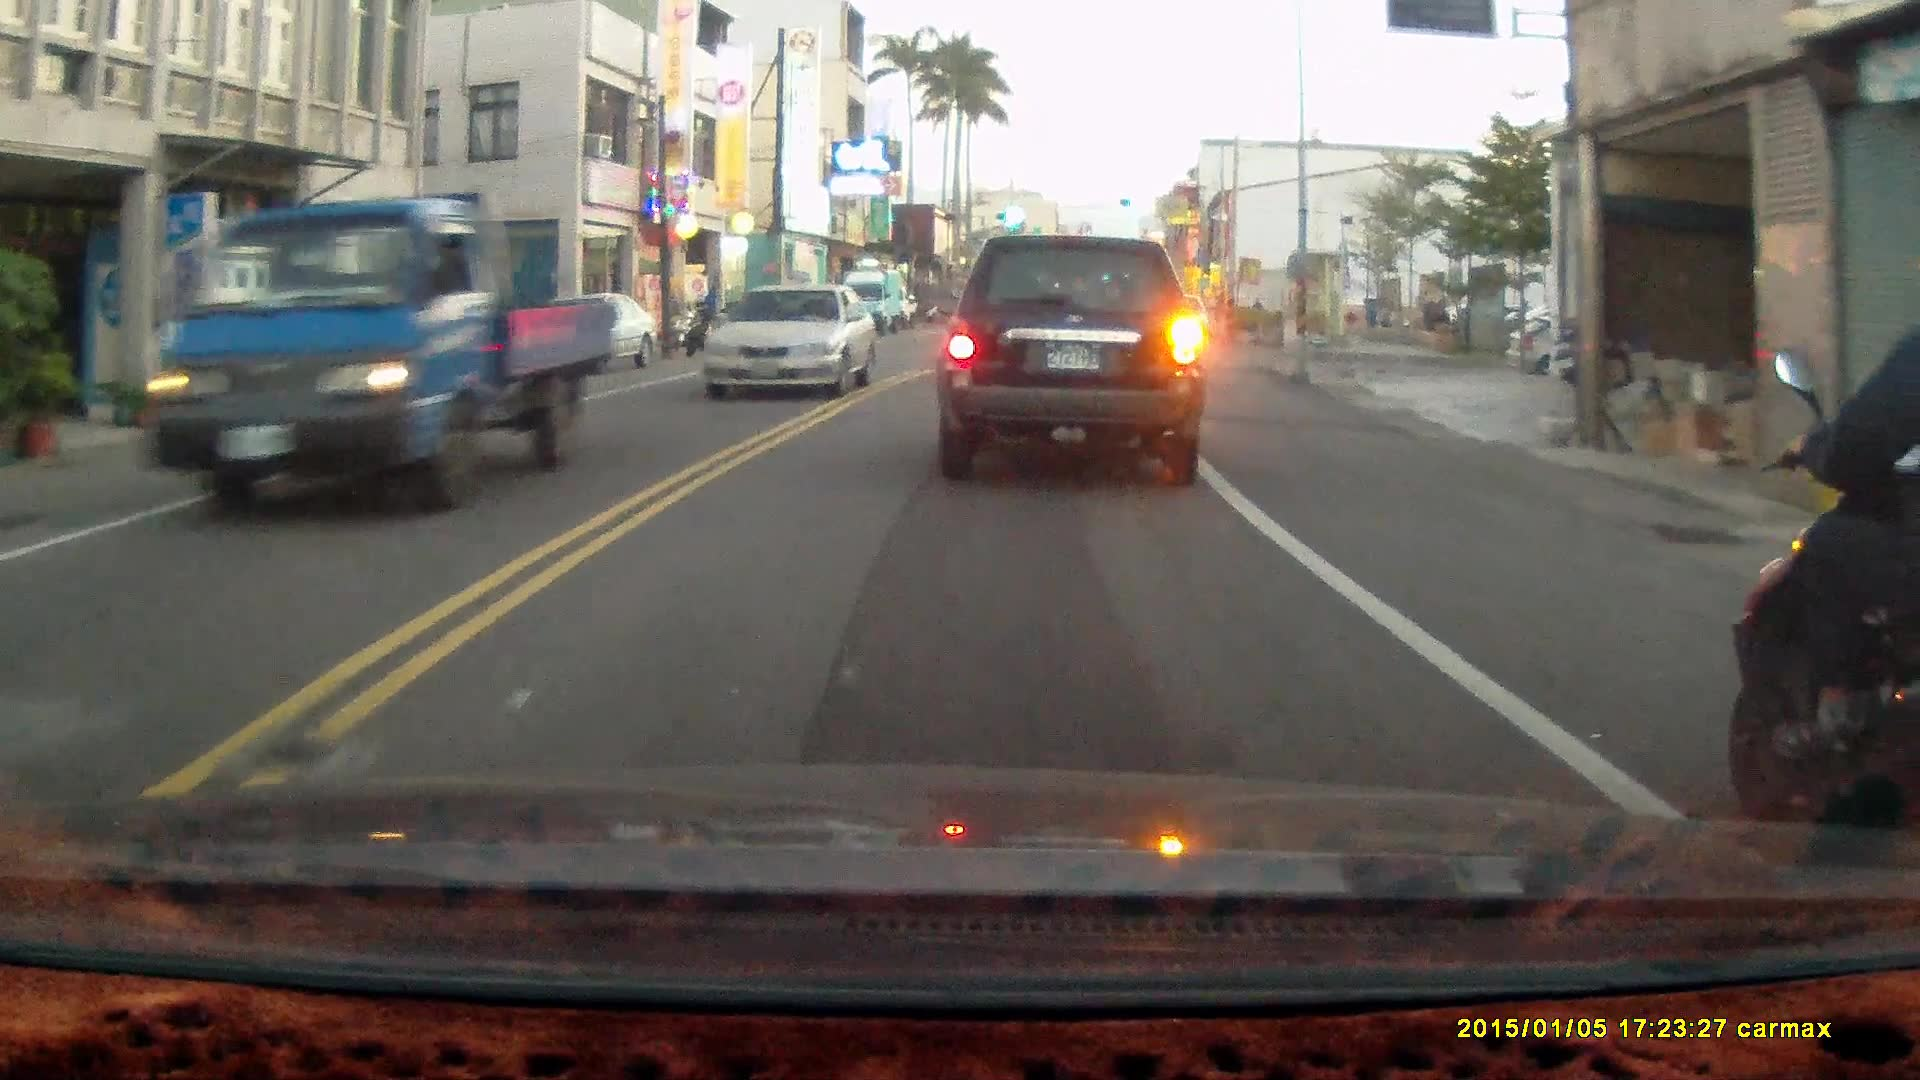pedestrian: (700, 280, 721, 335)
rider: (1733, 242, 1920, 906)
vehicle: (133, 192, 620, 519), (933, 234, 1206, 488), (702, 280, 880, 405), (1502, 308, 1690, 385), (525, 290, 666, 379), (836, 267, 914, 336)
